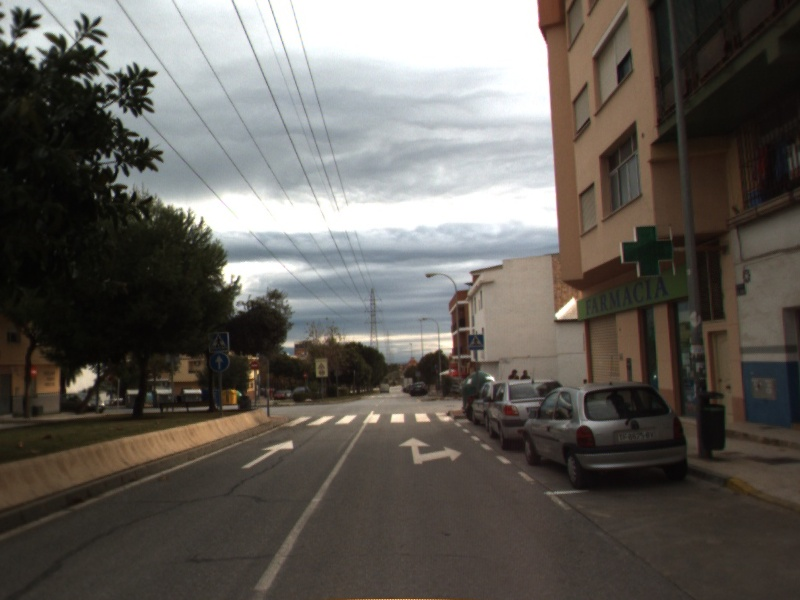STRAIGHT: (239, 438, 296, 470)
STRAIGHT_RIGHT: (397, 435, 464, 466)
